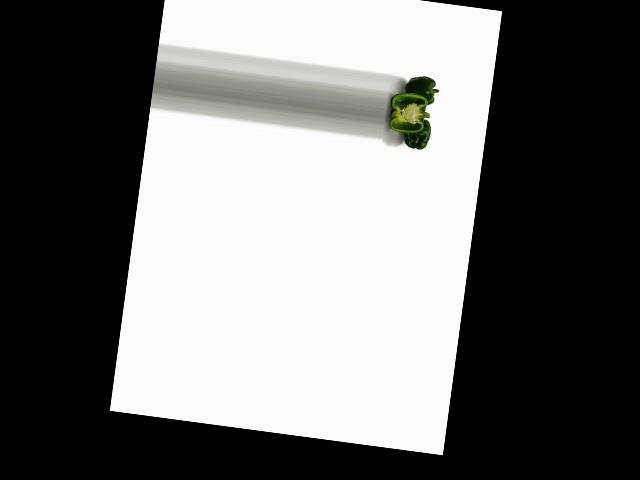bell_pepper: (398, 113, 435, 153)
